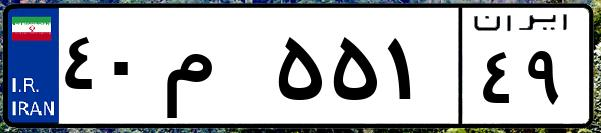0: (110, 28, 158, 98)
1: (385, 28, 445, 110)
4: (57, 26, 110, 100), (475, 38, 525, 113)
5: (270, 28, 330, 110), (330, 28, 385, 110)
9: (525, 38, 570, 115)
م: (158, 20, 270, 120)
